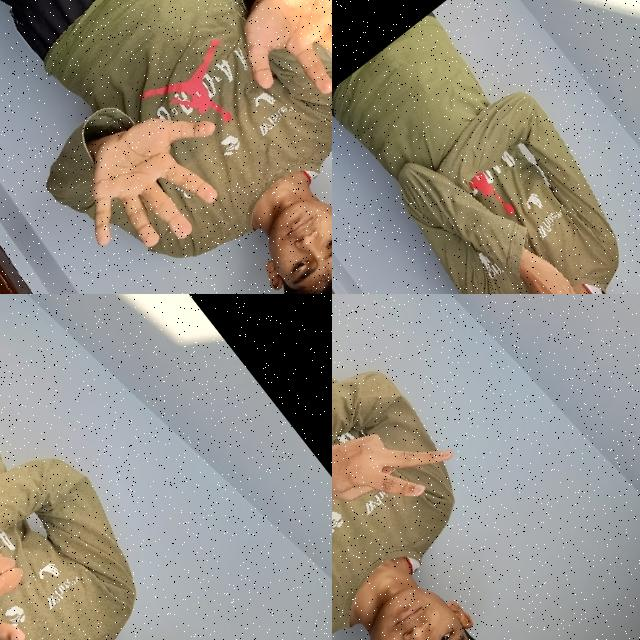Moutza: (39, 71, 262, 289), (207, 0, 332, 135)
Reversed Victory: (332, 373, 469, 551)
Thumbs Up: (0, 497, 80, 640)
